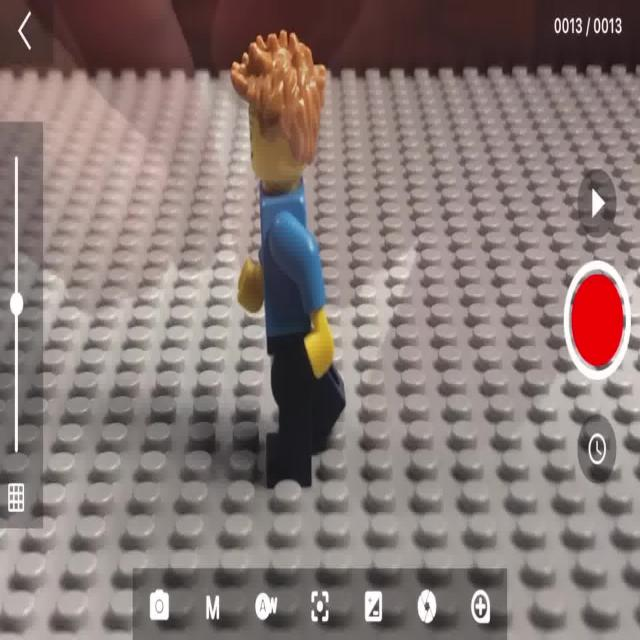4: (276, 220, 338, 378), (238, 263, 263, 313)
hand: (227, 49, 337, 481)
